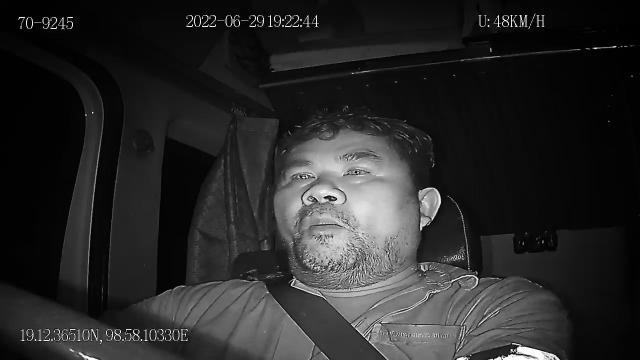SafeDriving: (335, 149, 381, 180), (337, 156, 379, 182), (284, 164, 320, 188)
Seatbelt: (262, 274, 390, 360)
